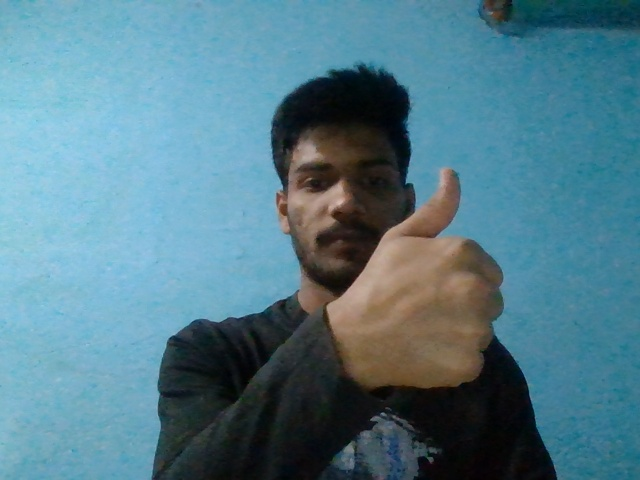ThumbsUp: (348, 166, 504, 389)
